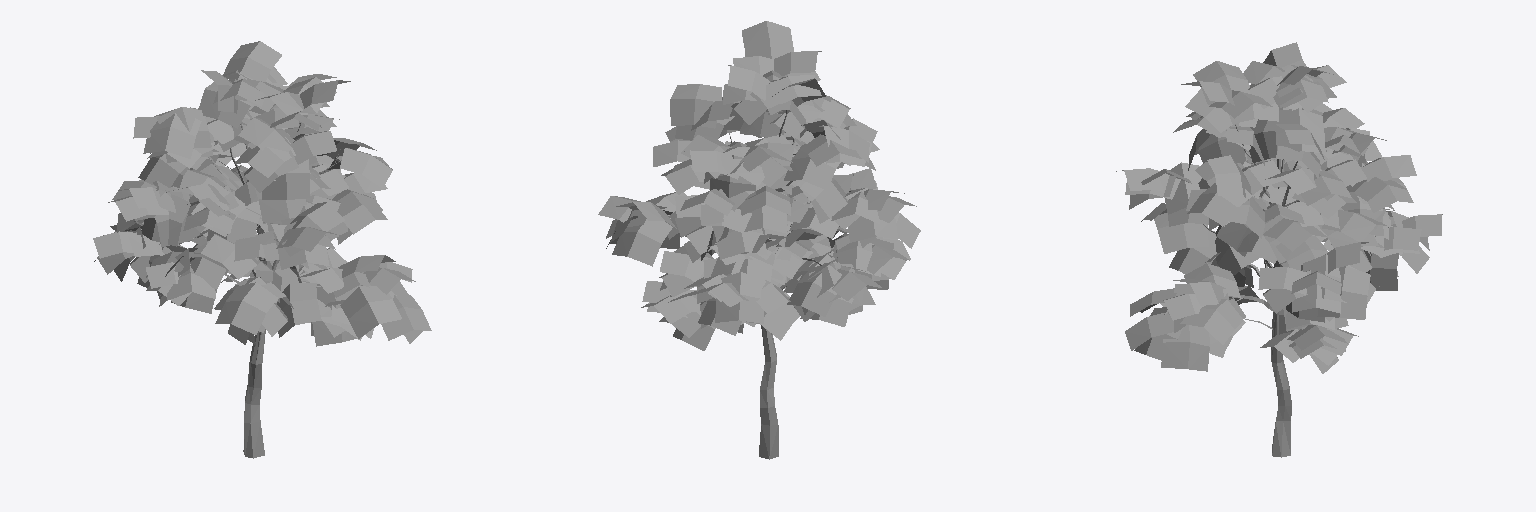
The model's file is tree.obj.
3 views of the same model, side by side, from view 1: azimuth 30°, elevation 25°; view 2: azimuth 150°, elevation 25°; view 3: azimuth 270°, elevation 25° (orthographic).
Parts seen in each view (by area): view 1: leafs_polySurface1041.001, trunk_polySurface101.001; view 2: leafs_polySurface1041.001, trunk_polySurface101.001; view 3: leafs_polySurface1041.001, trunk_polySurface101.001.
Boxes of the visible parts, x1=… form: leafs_polySurface1041.001: x1=93, y1=41, x2=431, y2=346; trunk_polySurface101.001: x1=141, y1=123, x2=341, y2=458; leafs_polySurface1041.001: x1=598, y1=21, x2=920, y2=350; trunk_polySurface101.001: x1=670, y1=110, x2=833, y2=459; leafs_polySurface1041.001: x1=1116, y1=42, x2=1442, y2=373; trunk_polySurface101.001: x1=1203, y1=106, x2=1297, y2=457.
Size of the model in its own units: 3.21 by 4.33 by 3.26.